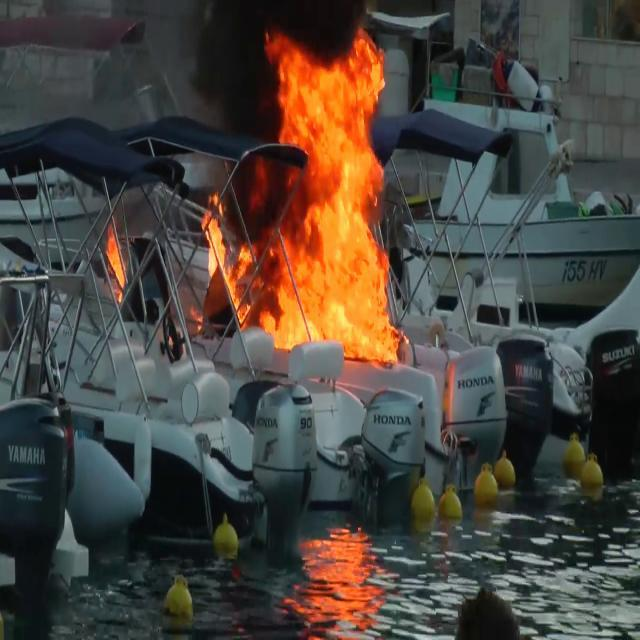Fire: (260, 23, 408, 364), (198, 189, 256, 333), (104, 214, 128, 304)
